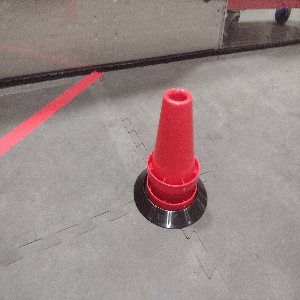Red_2: (144, 85, 202, 210)
